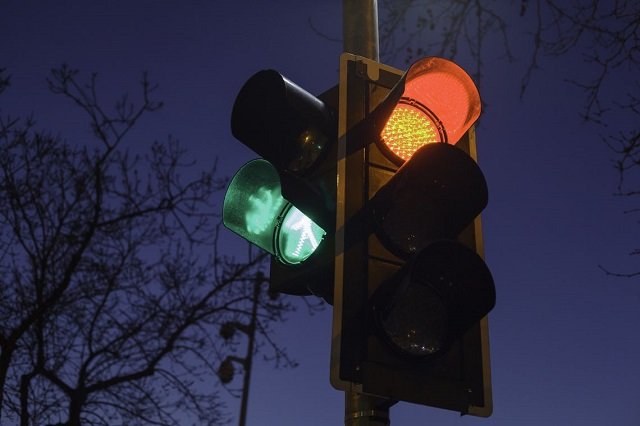pole: (343, 2, 379, 57)
traffic light: (340, 56, 491, 410), (230, 72, 338, 286)
tree branches: (50, 64, 167, 152), (43, 191, 122, 291), (575, 13, 640, 127)
